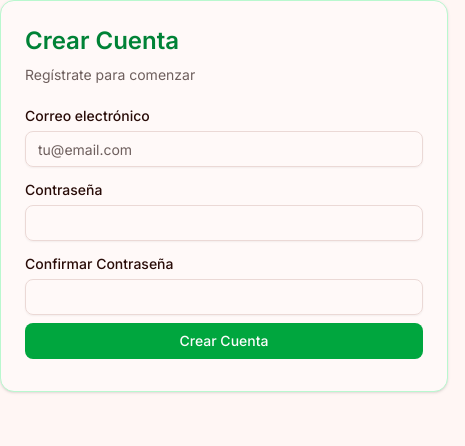
Scenario: SignUpForm Component › debería mostrar mensaje de error al fallar el registro
Step 1. Type "existing@example.com" into the field labelled "Correo electrónico" → (224, 149), box [25, 131, 423, 167]
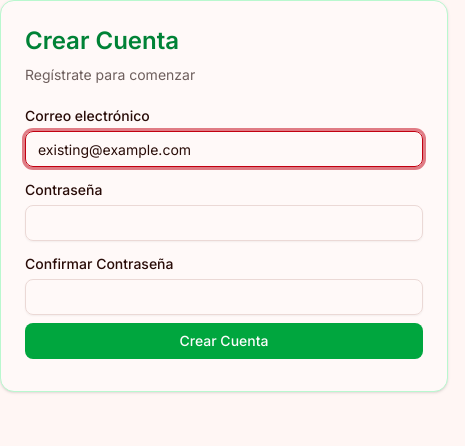
Step 2. Type "password123" into the password field labelled "Contraseña" → (224, 223), box [25, 205, 423, 241]
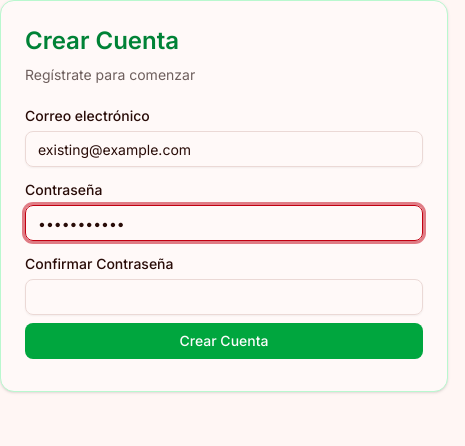
Step 3. Type "password123" into the password field labelled "Confirmar Contraseña" → (224, 297), box [25, 279, 423, 315]
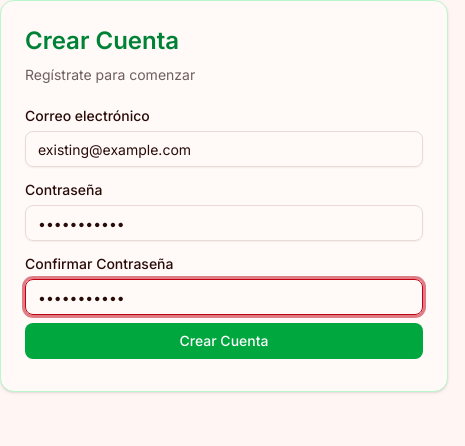
Step 4. Click the button "Crear Cuenta" → (224, 341), box [25, 323, 423, 359]
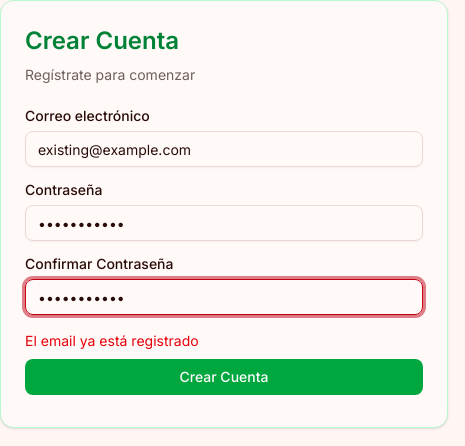
Expected: the text "El email ya está registrado" is shown, [25, 332, 199, 349]
